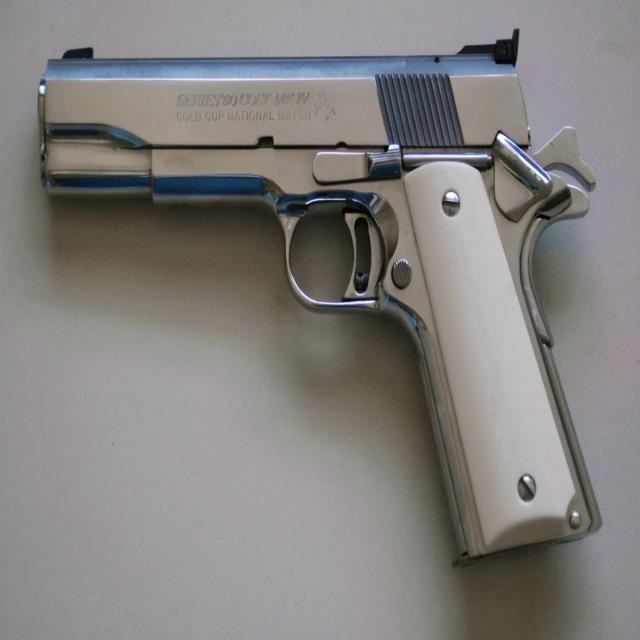Pistol: (24, 23, 626, 571)
